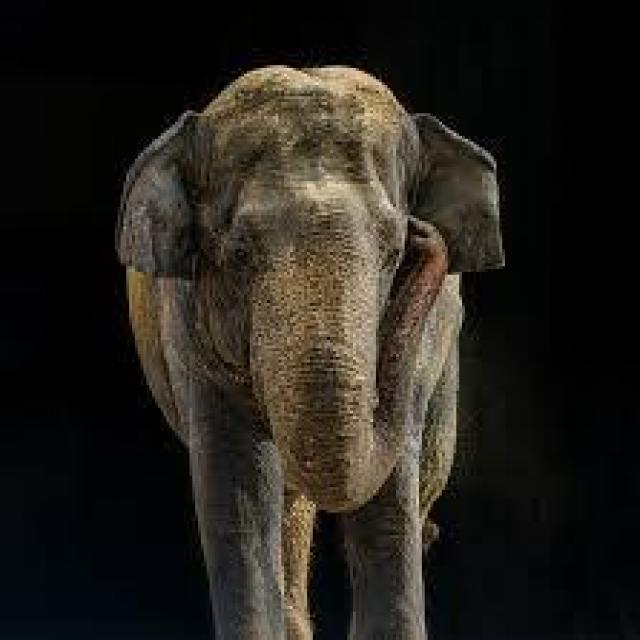Elephant: (112, 51, 505, 637)
